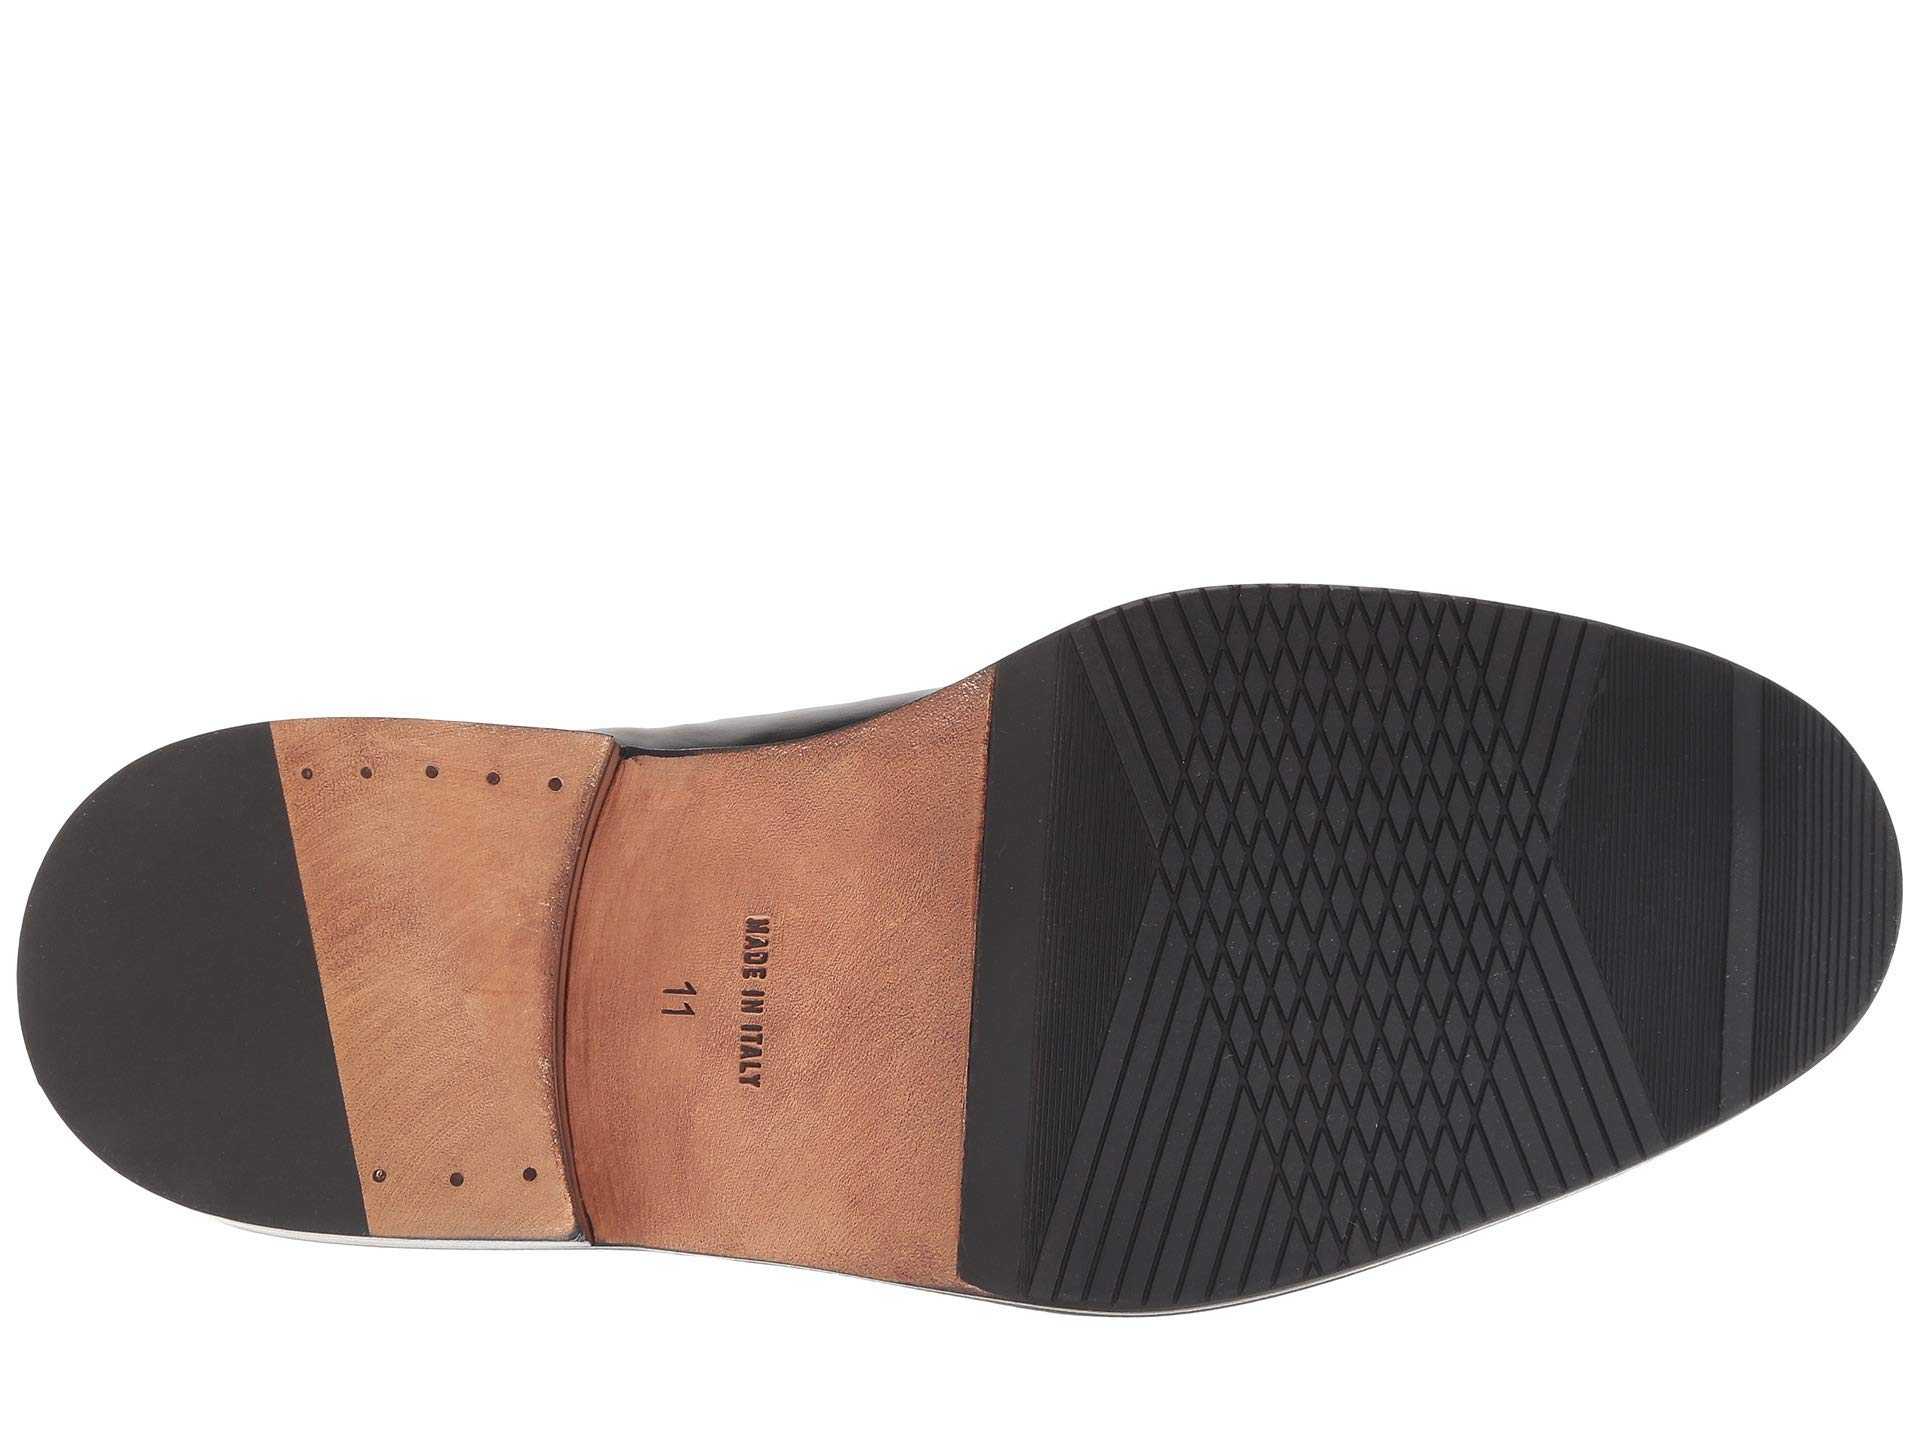circle: (274, 741, 590, 811)
line: (1530, 623, 1912, 1133)
polygon: (1530, 623, 1912, 1133)
quad: (1530, 623, 1912, 1133), (1232, 649, 1492, 1047)
text: (649, 853, 847, 1133)
